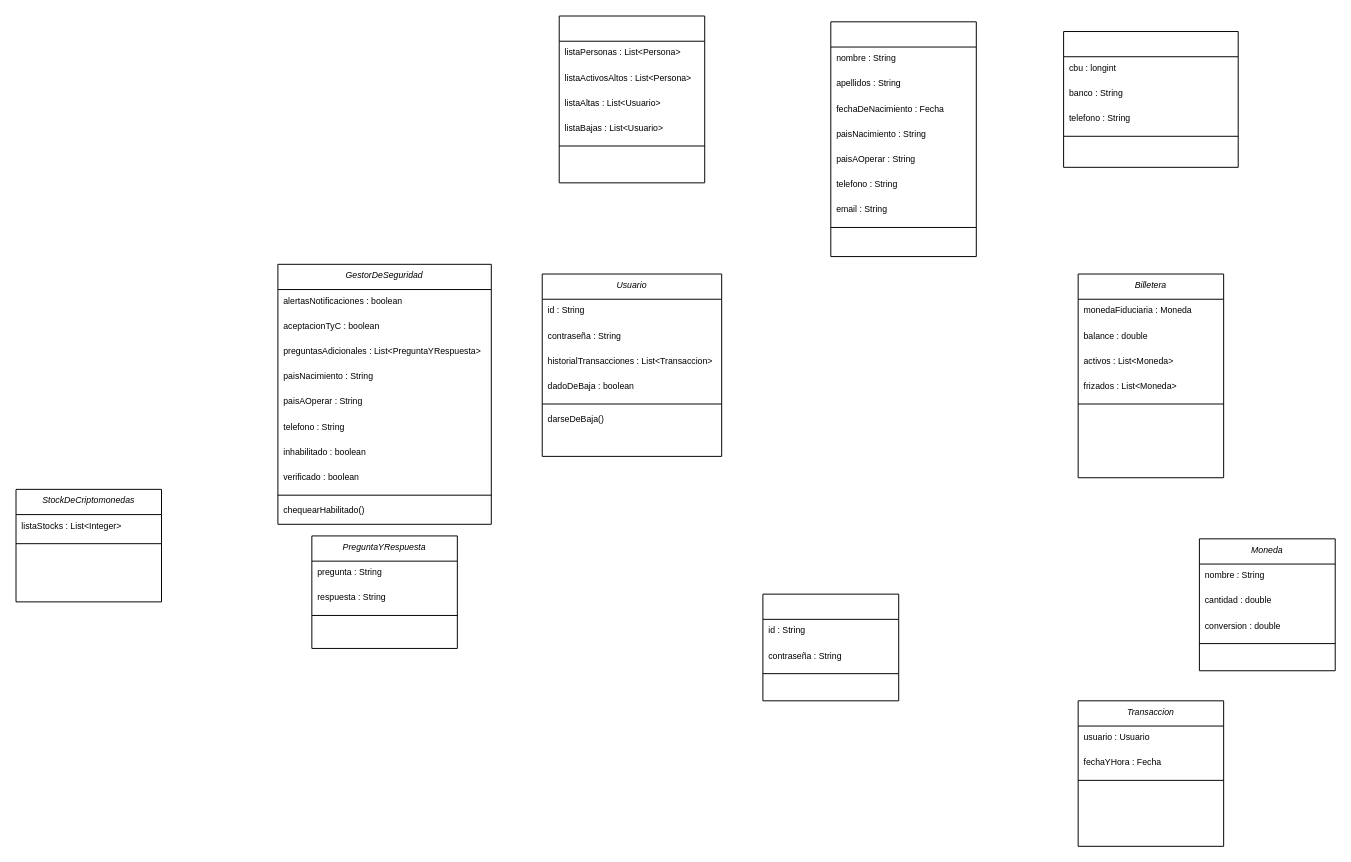
Image size: 1351x862. Some labels were removed from this diagram. Each missing label, with the box of its shape:
Aplicación: (558, 15, 705, 183)
DatosBancarios: (1063, 31, 1238, 167)
GestorDeMovimientos: (762, 593, 899, 701)
Persona: (830, 21, 976, 257)
